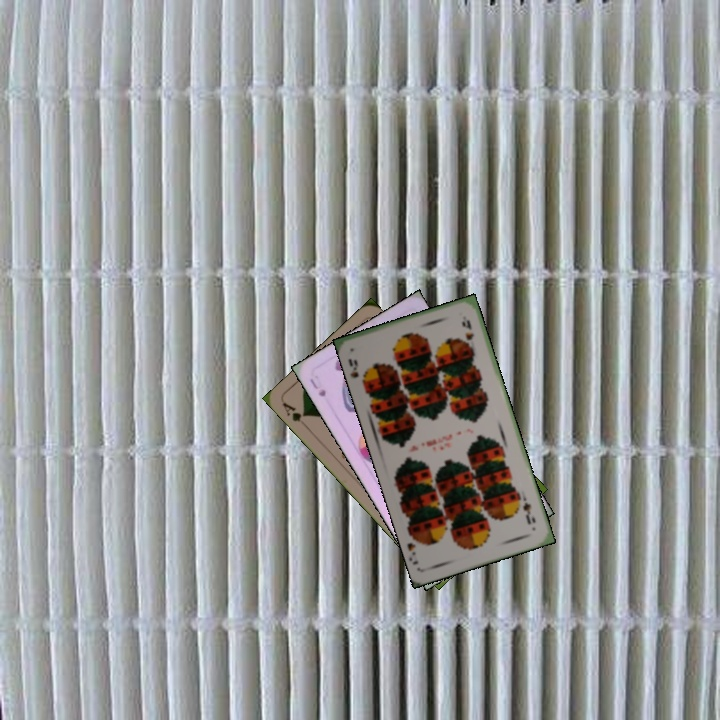GA: (278, 399, 311, 431)
S9: (344, 355, 369, 388), (519, 498, 538, 527)
SU: (305, 374, 329, 399)
